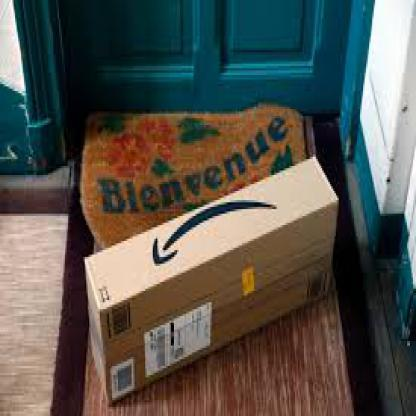package: (83, 154, 342, 412)
